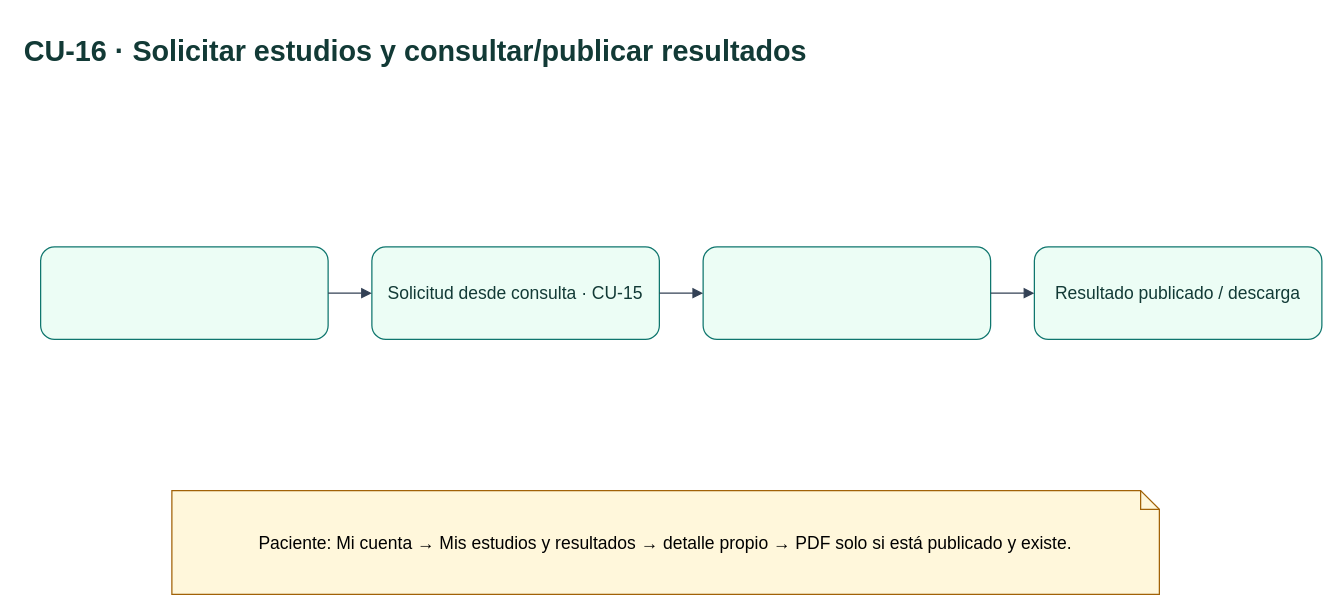
Some shapes in this 1344 by 616 pixel diagram are drawn without their labels. The shapes that lost their labels are listed below. From the top down, each one's centre as x and y in pixels, then its label:
At [183,292]: "Estudios solicitados / Mi cuenta".
At [846,292]: "Detalle del estudio".
